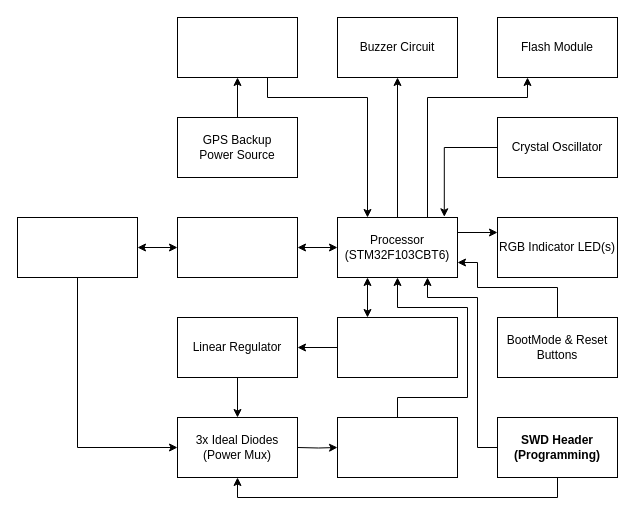
Some shapes in this 635 by 523 pixel diagram are drawn without their labels. Here are the shapes that lost their labels. From the top down, the centre of each, then its label:
pixel 237 47: SAM-M10Q GPS
pixel 77 247: Stack Edge Connector
pixel 237 247: CAN Interface (Isolated)
pixel 397 347: USB Connector
pixel 397 447: Current Monitoring IC
